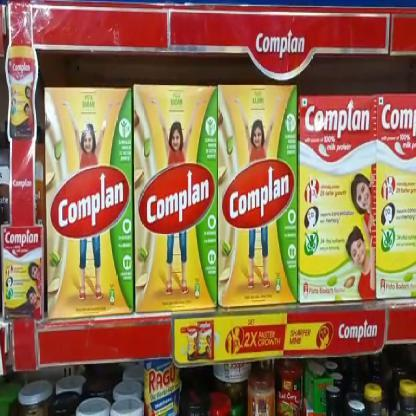Complan Pista Badam: (44, 88, 133, 318), (134, 88, 216, 314), (217, 86, 298, 311), (298, 97, 376, 304)
